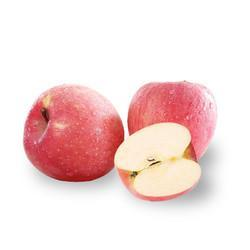apple: (21, 85, 124, 184), (127, 82, 218, 162), (115, 123, 205, 201)
